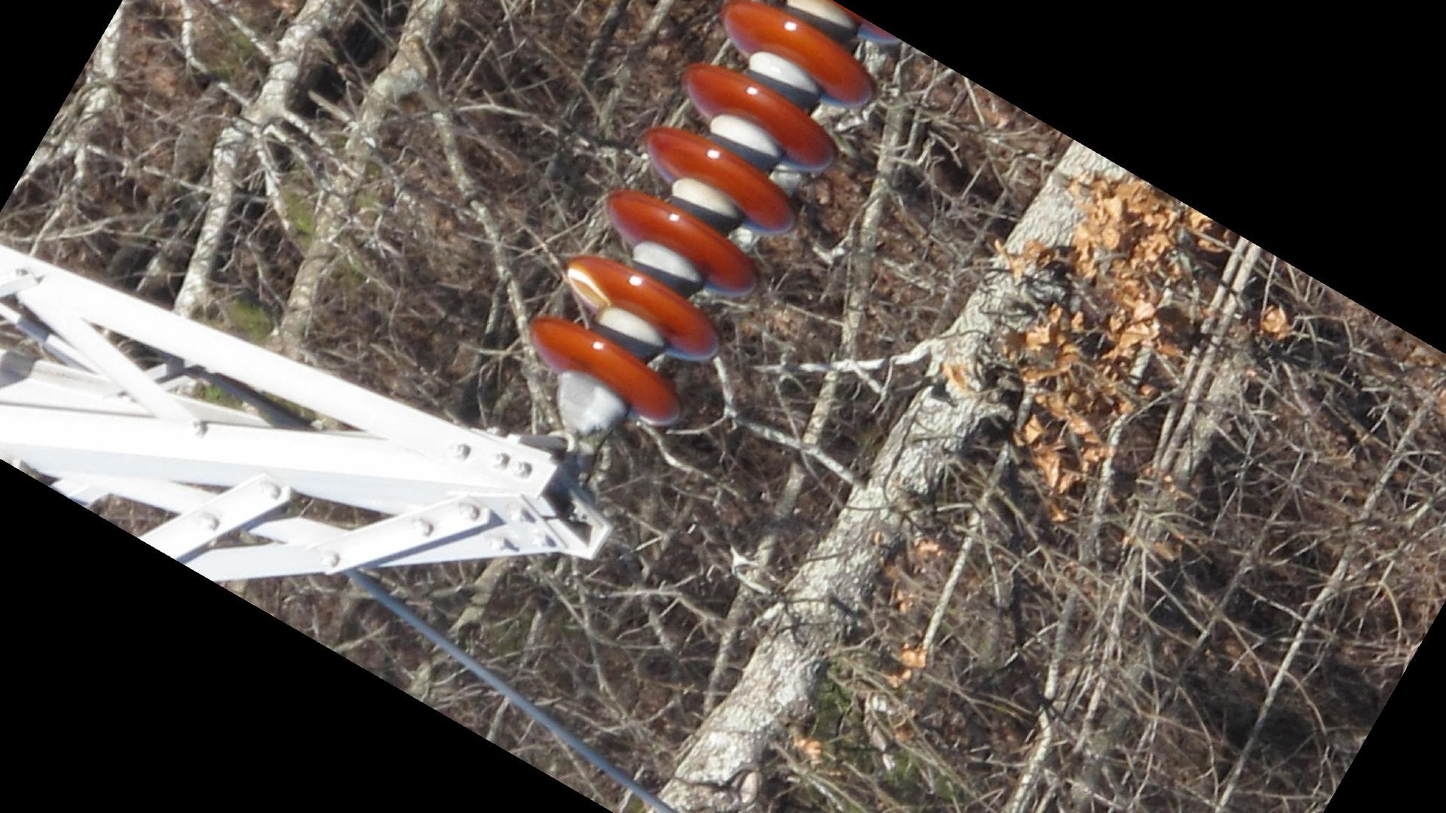insulator: (522, 1, 896, 434)
insulator_flashover: (564, 263, 612, 312)
